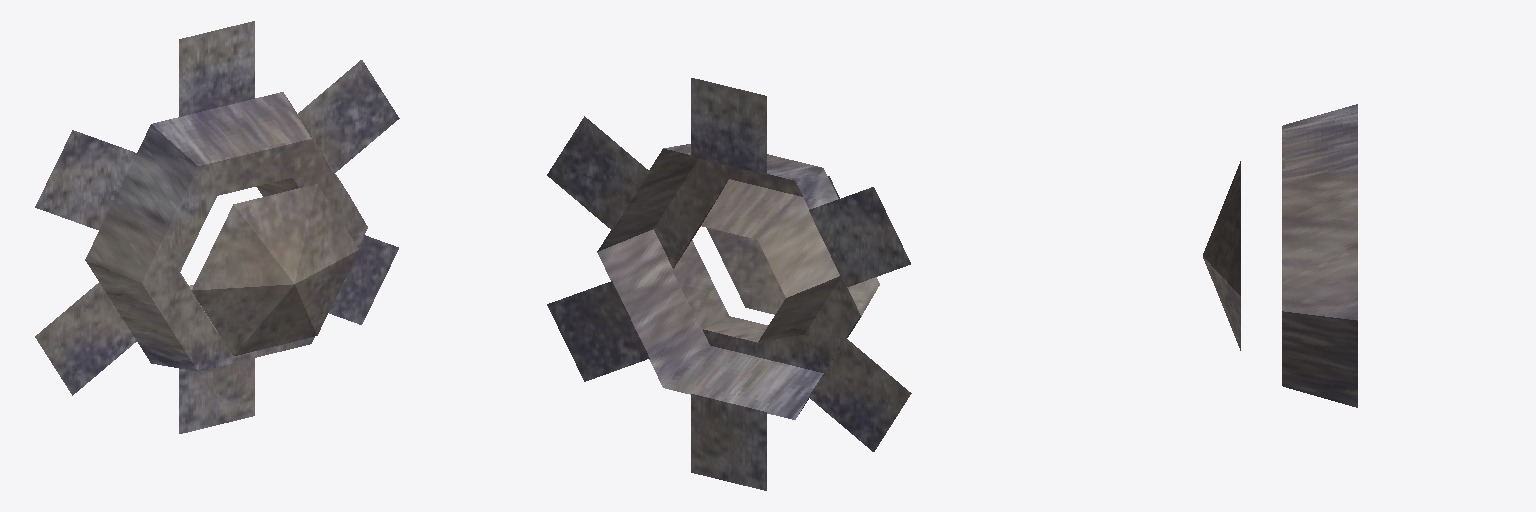
3 renders of one model, left to right at view 1: azimuth 30°, elevation 25°; view 2: azimuth 150°, elevation 25°; view 3: azimuth 270°, elevation 25°, orthographic.
Visible parts, largest first — view 1: Plane; view 2: Plane; view 3: Plane.
Part boxes in pixels (bbox=[...]): Plane: bbox=[35, 21, 399, 433]; Plane: bbox=[547, 78, 911, 490]; Plane: bbox=[1203, 104, 1357, 407].
Bounding box in the file's own units: 1.09 × 1.12 × 0.4.
1 materials, 1 textured.